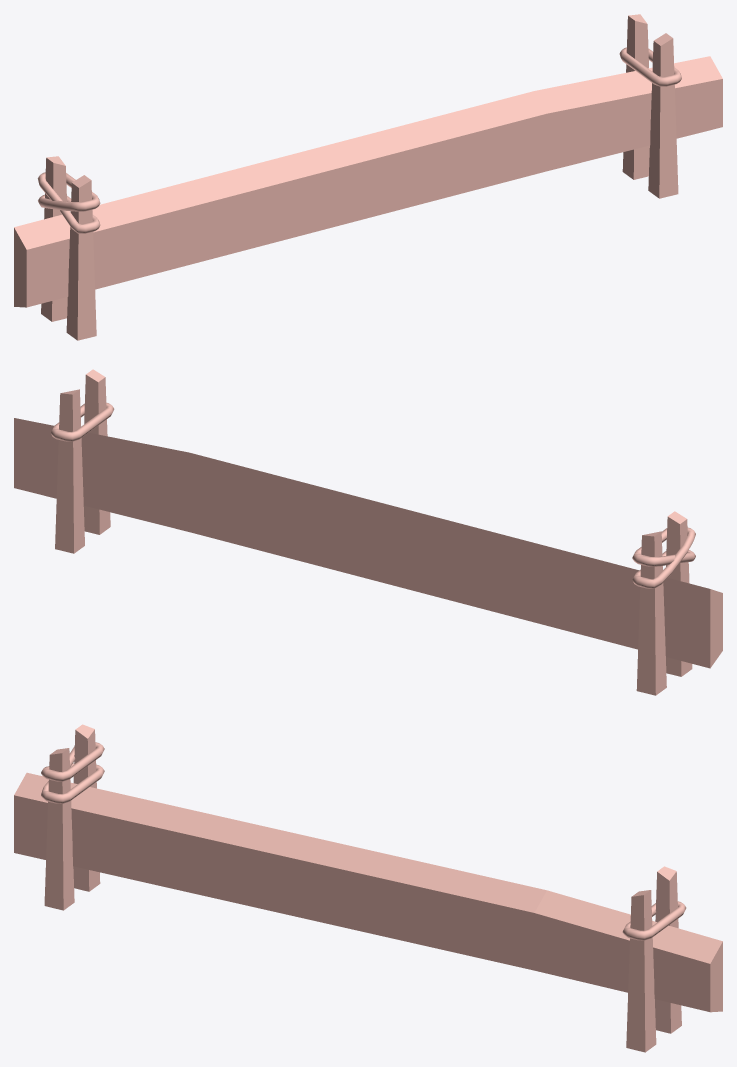
Rendered from Mega_Asset_s_Pack_Cube_239.FBX.
3 views of the same model, one above another, from view 1: azimuth 30°, elevation 25°; view 2: azimuth 150°, elevation 25°; view 3: azimuth 330°, elevation 25° (orthographic).
Parts seen in each view (by area): view 1: Mega_Asset_s_Pack_Cube_239; view 2: Mega_Asset_s_Pack_Cube_239; view 3: Mega_Asset_s_Pack_Cube_239.
Part boxes in pixels (left/top/right/bottom): Mega_Asset_s_Pack_Cube_239: left=14, top=14, right=722, bottom=340; Mega_Asset_s_Pack_Cube_239: left=14, top=369, right=722, bottom=695; Mega_Asset_s_Pack_Cube_239: left=14, top=724, right=722, bottom=1052.
Size of what is drawn, in the model's own units: 584 by 64.66 by 126.
